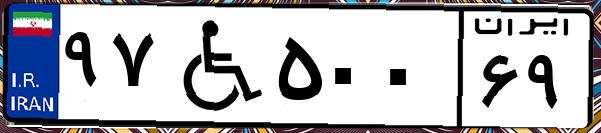0: (385, 28, 445, 110), (330, 28, 385, 110)
5: (270, 28, 330, 110)
6: (475, 38, 525, 113)
7: (110, 28, 158, 98)
9: (57, 26, 110, 100), (525, 38, 570, 115)
ژ (معلولین و جانبازان): (158, 12, 270, 120)
